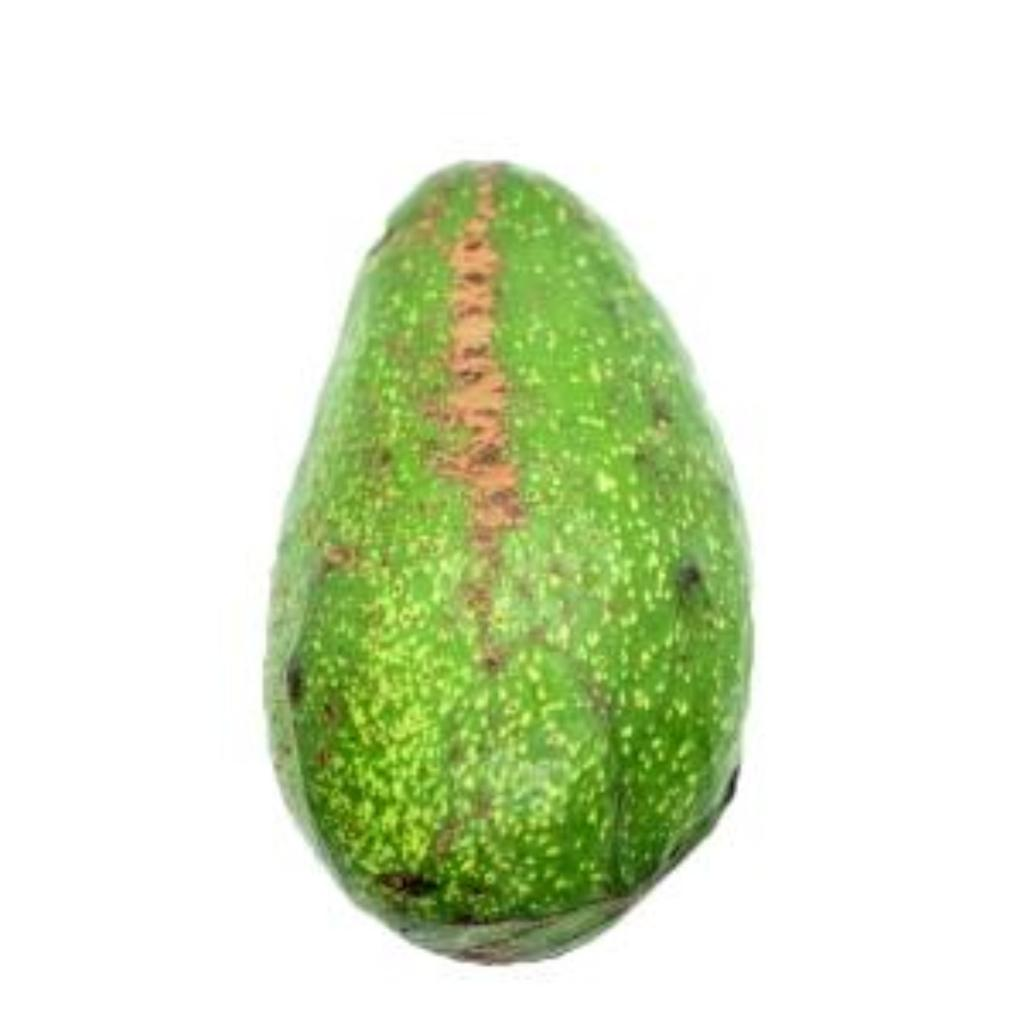cercospora: (253, 140, 765, 976)
